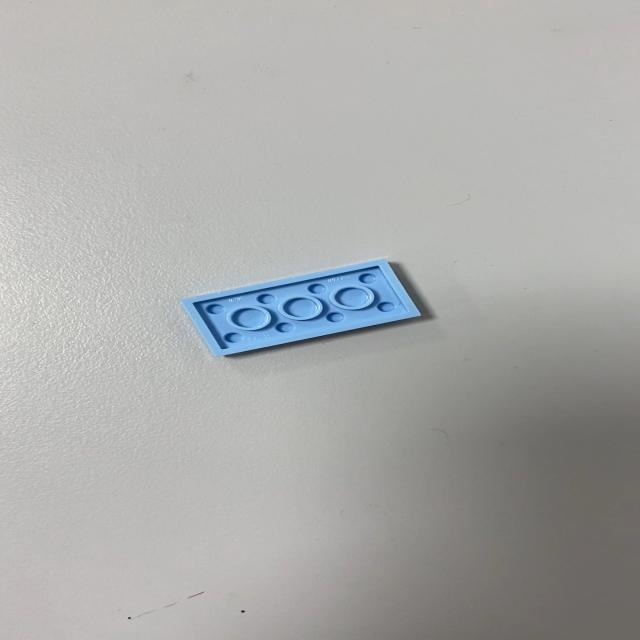C4x2x0: (178, 258, 422, 357)
